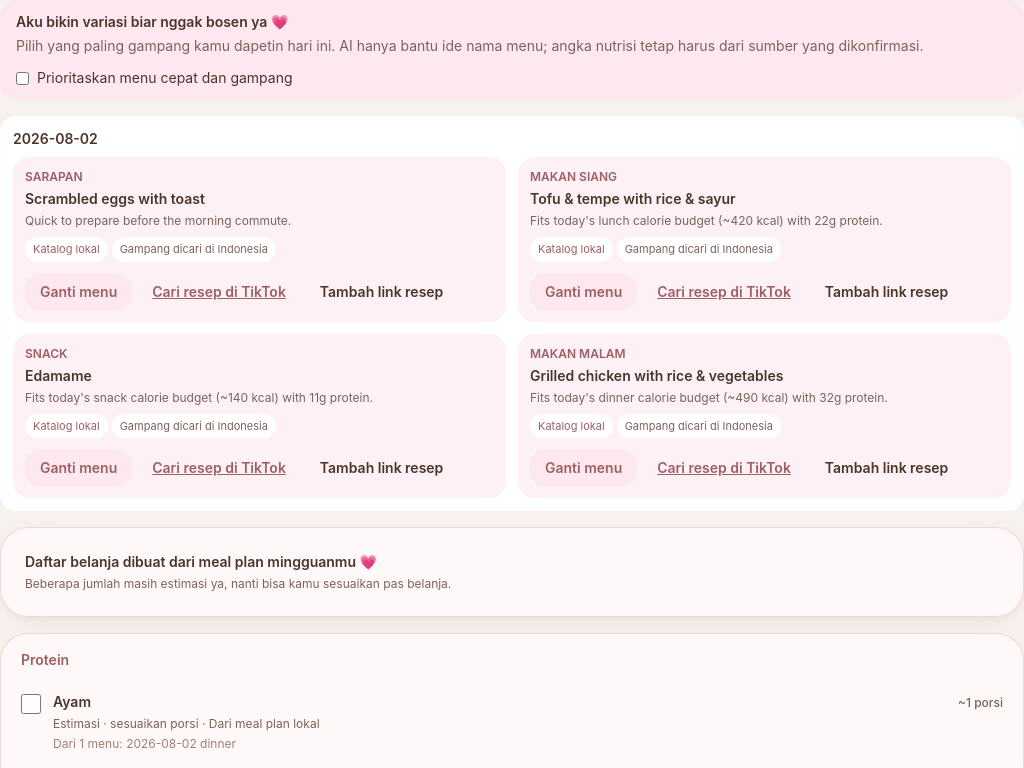
Test: WeeklyMealPlanExperience › keeps unknown selected ideas as a manual-check shopping item
The width and height of the screenshot is (1024, 768).
Click the button "Ganti menu" below "Sarapan" at point(79, 292), box [25, 274, 132, 310]
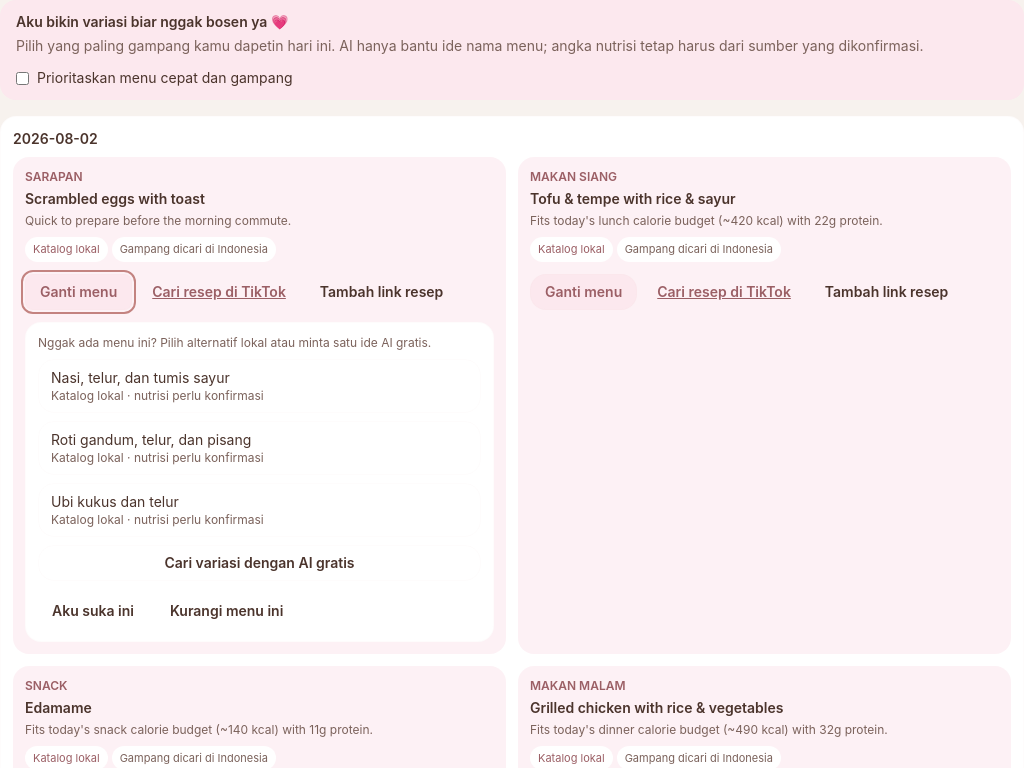
Check: the button "Katalog lokal" is shown, box [38, 358, 481, 412]
